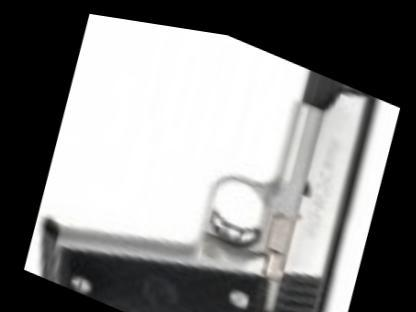pistol: (30, 3, 401, 311)
